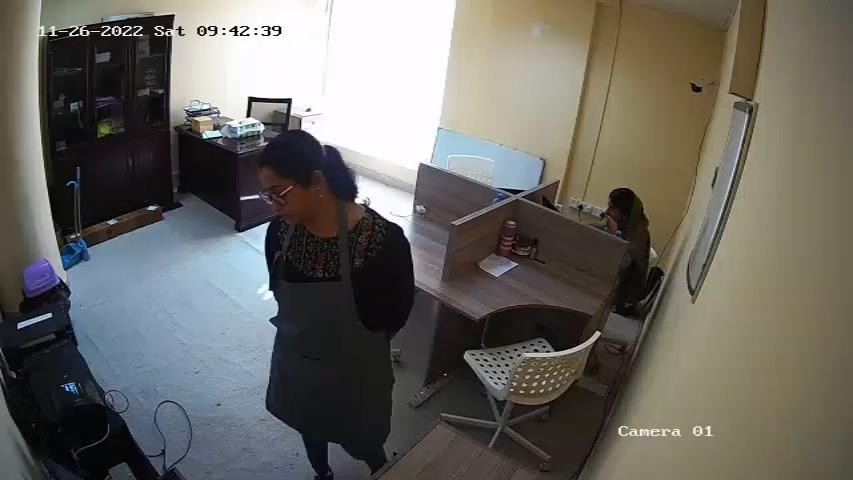apron: (267, 227, 387, 443)
